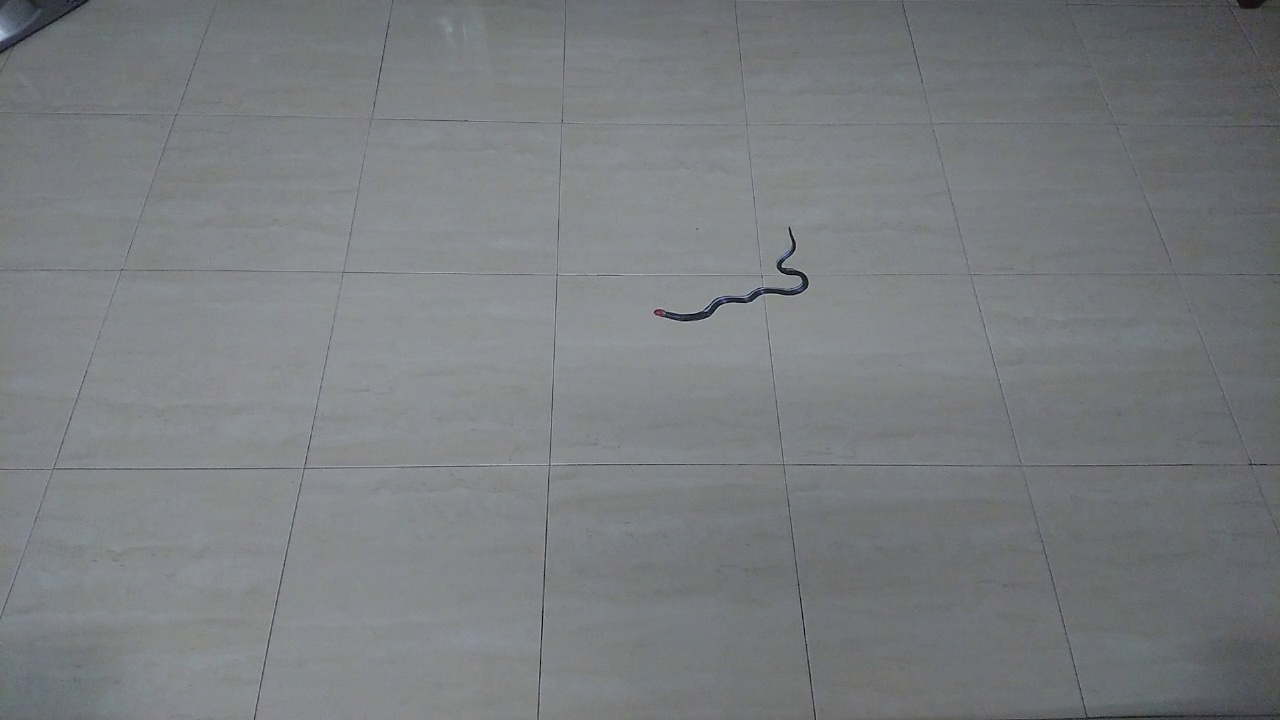snake: (640, 219, 816, 328)
